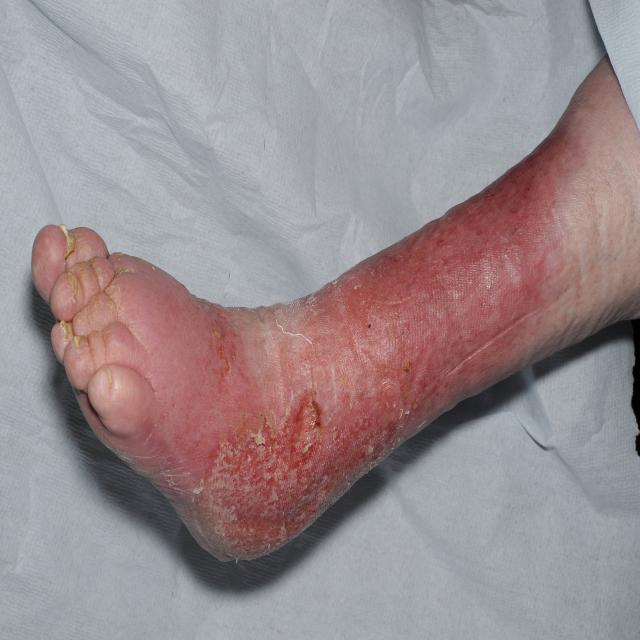wound: (188, 387, 322, 561)
